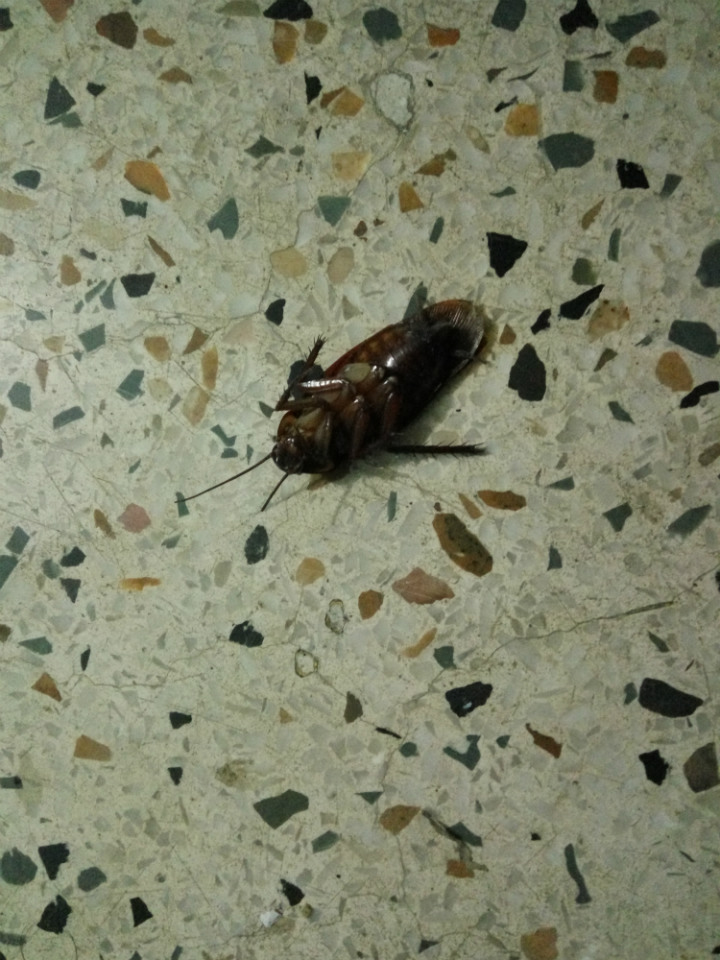cockroach: (125, 262, 569, 534)
